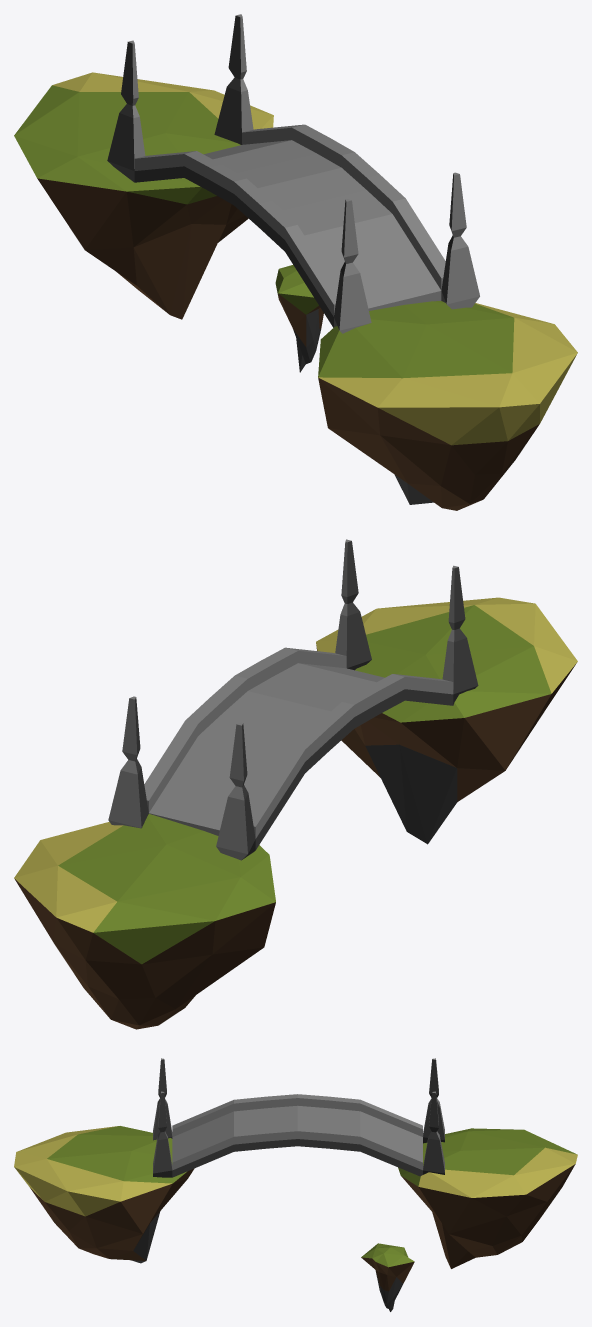
The model's file is ostrovok4(most).fbx.
3 renders of one model, top to bottom at view 1: azimuth 30°, elevation 25°; view 2: azimuth 150°, elevation 25°; view 3: azimuth 270°, elevation 25°, orthographic. The views are drawn at different scales.
Visible parts, largest first — view 1: Icosphere.002; view 2: Icosphere.002; view 3: Icosphere.002.
Boxes of the visible parts, x1,y1,x2,y2 form: Icosphere.002: (14, 14, 577, 510); Icosphere.002: (14, 539, 577, 1029); Icosphere.002: (14, 1058, 577, 1311).
Bounding box in the file's own units: 476 × 637 × 1532.
